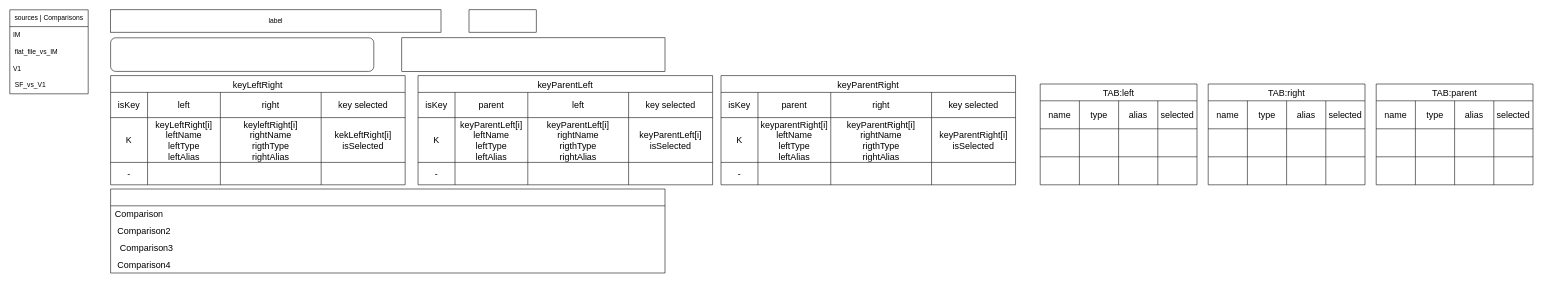
The diagram is 1543 pixels wide and 283 high, and some of its shapes have lost their labels. The shapes that lost their labels are listed below. From the top down, each one's box as (x1, y1, x2, y2) in pixels, then its label:
(468, 9, 536, 32): PLAY
(110, 37, 374, 71): Left:
(401, 37, 665, 71): Right:
(110, 188, 665, 273): childs:TreeNode
